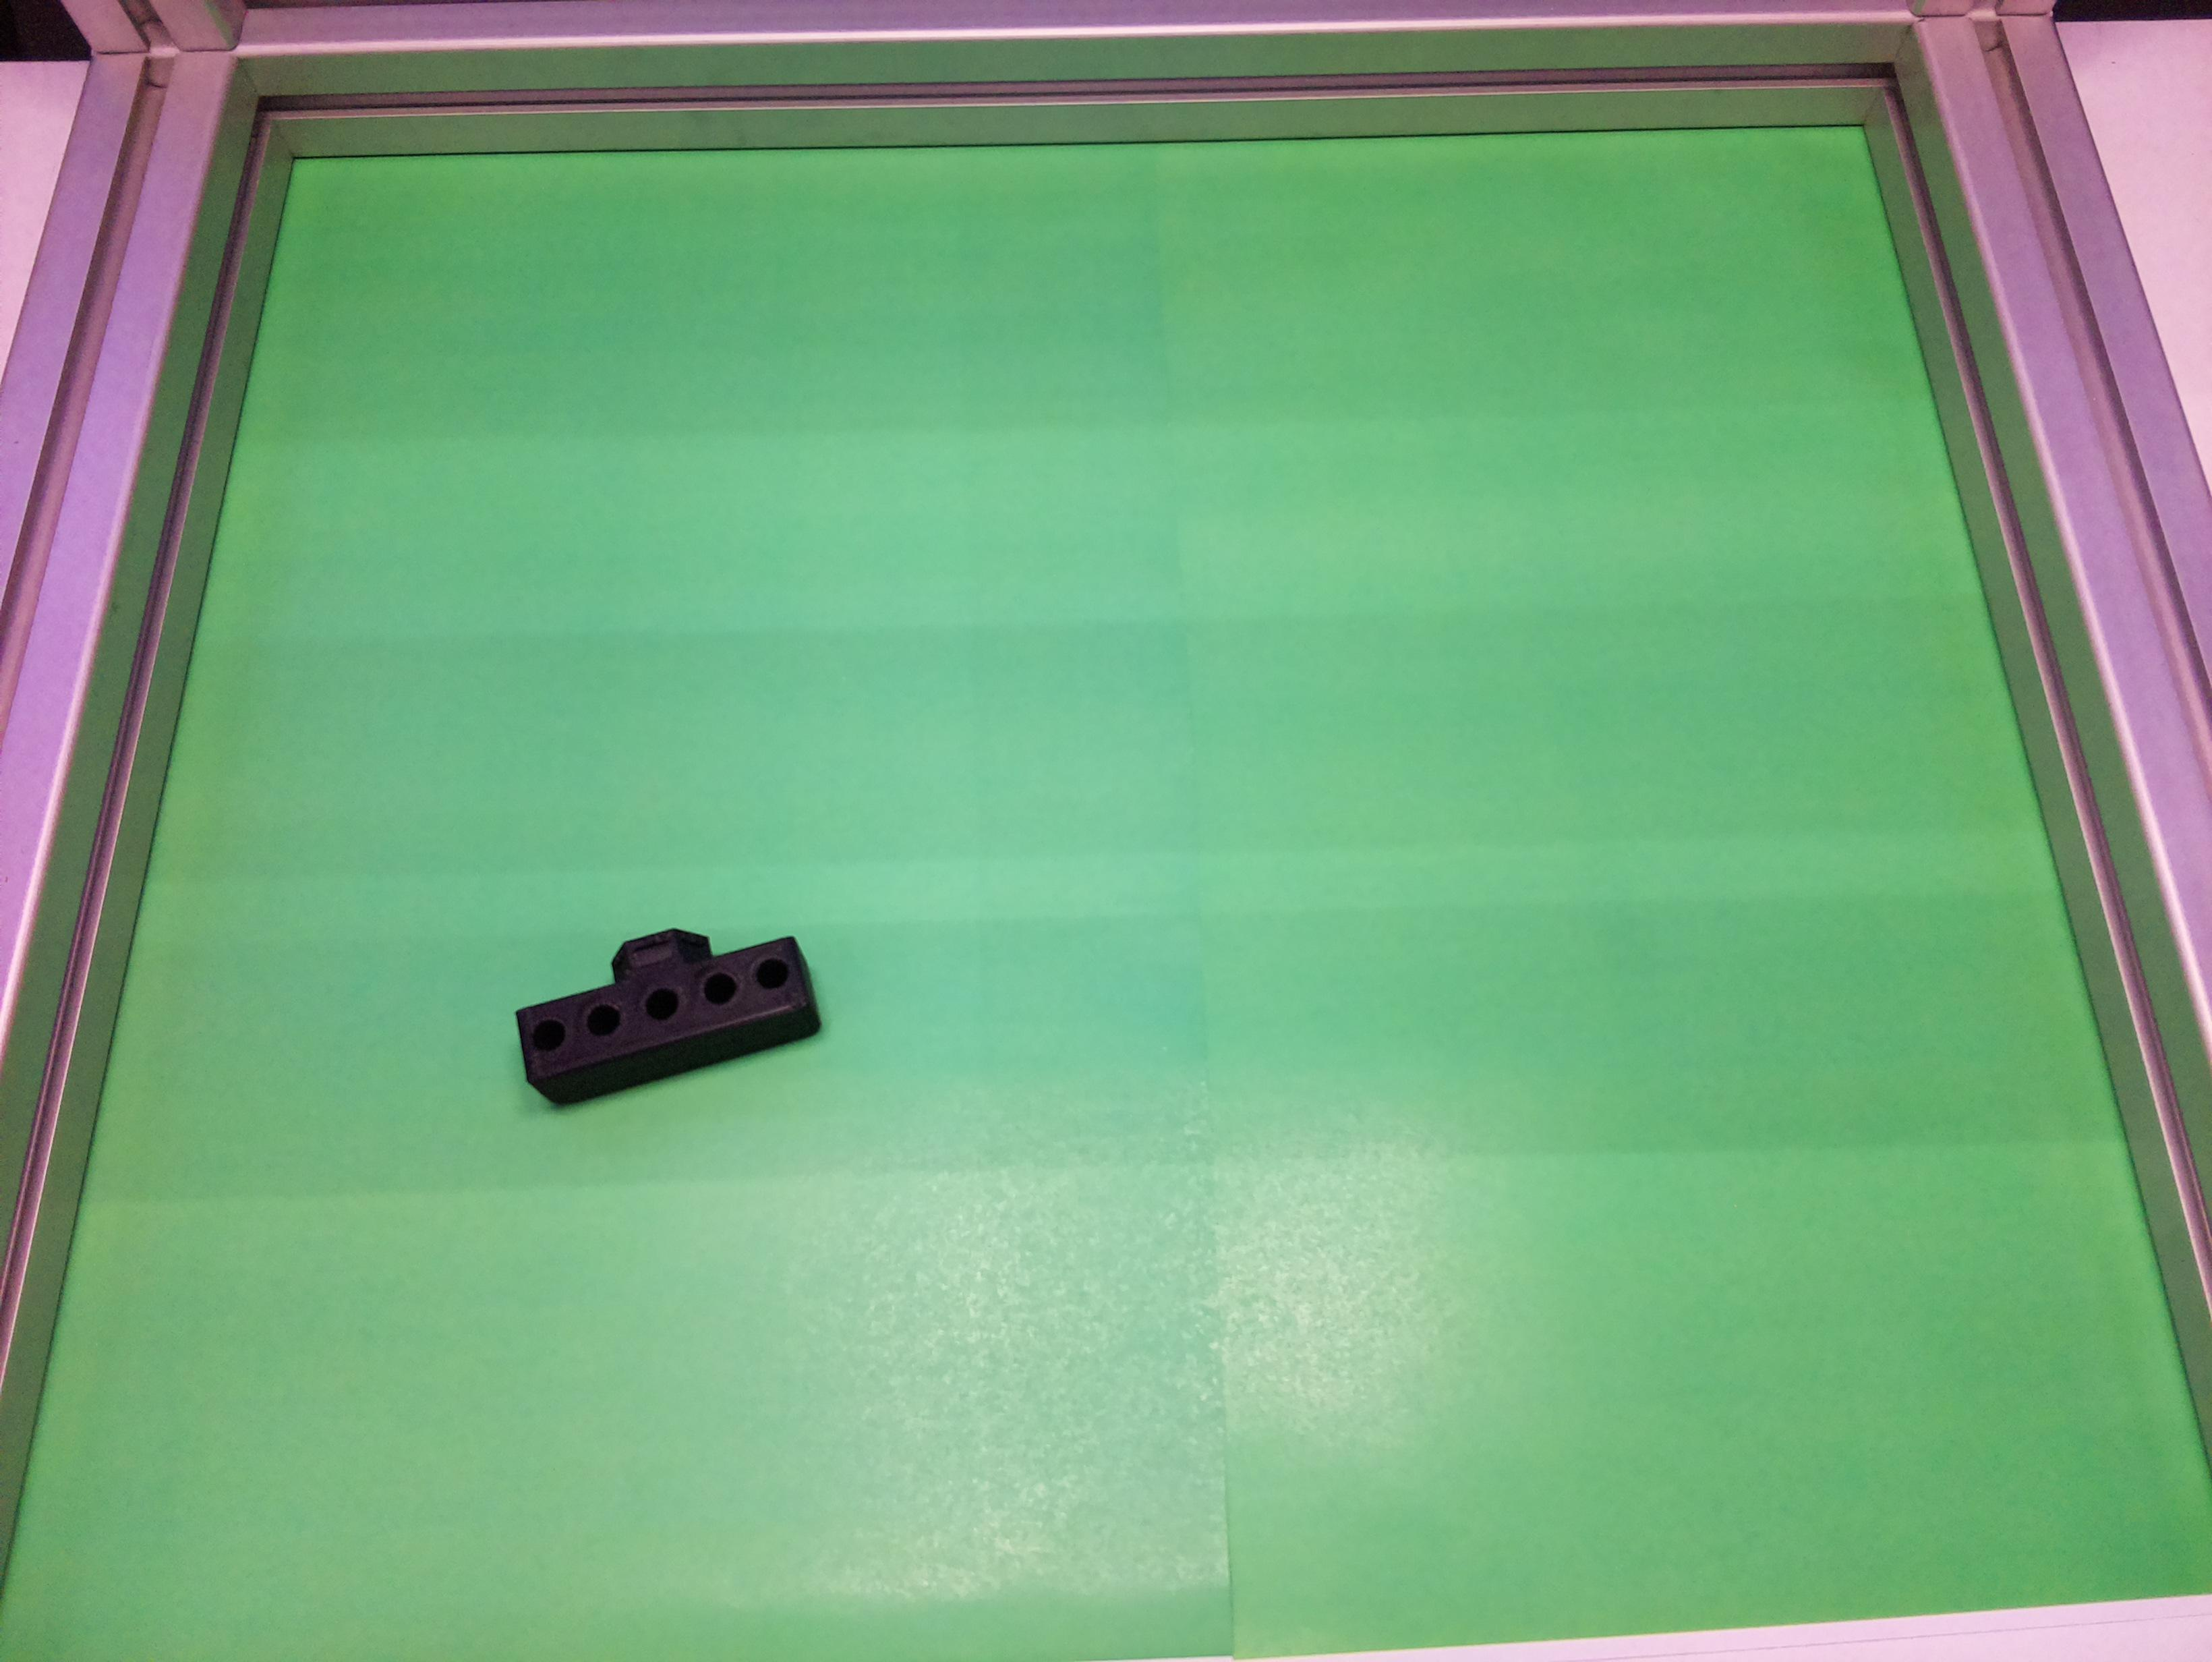bit_holder: (499, 896, 828, 1116)
